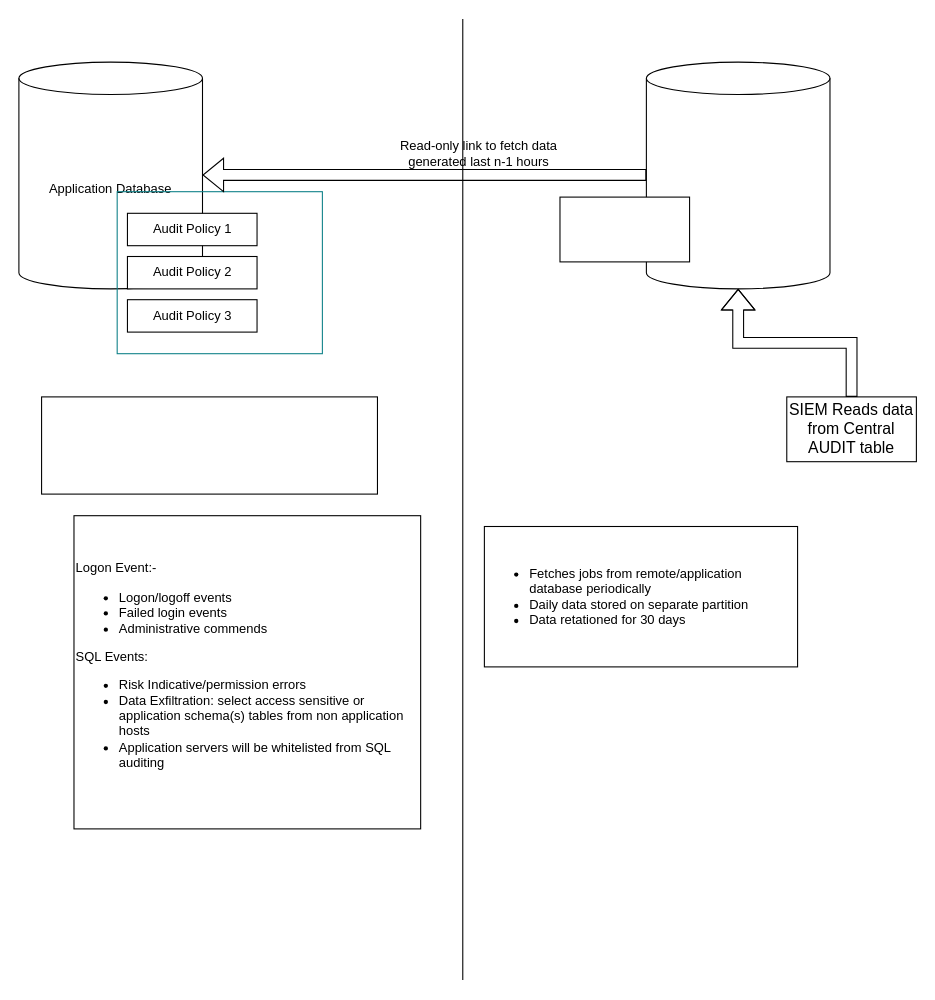
This 935x1000 diagram has some shape labels left out. The box of each missing label's shape, as (x1, y1, x2, y2) in pixels:
Central AUDIT DB: (645, 61, 830, 289)
CENTRAL AUDIT TABLE DB link to application database: (559, 196, 690, 262)
Internal AUDIT records are maintained for 7 or 1 day(s): (40, 396, 377, 494)
